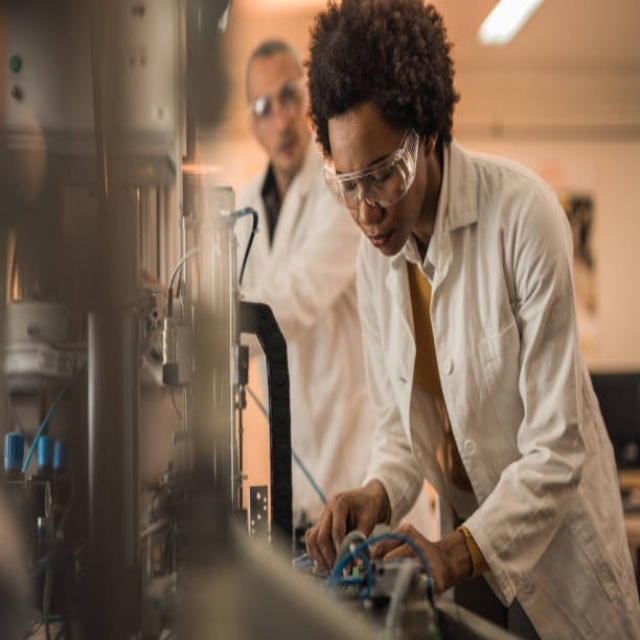Gafas: (324, 125, 421, 209), (250, 79, 304, 119)
Sin_guantes: (307, 483, 389, 572), (369, 521, 464, 597)
Sin_mascara: (362, 224, 402, 262), (271, 125, 301, 168)
